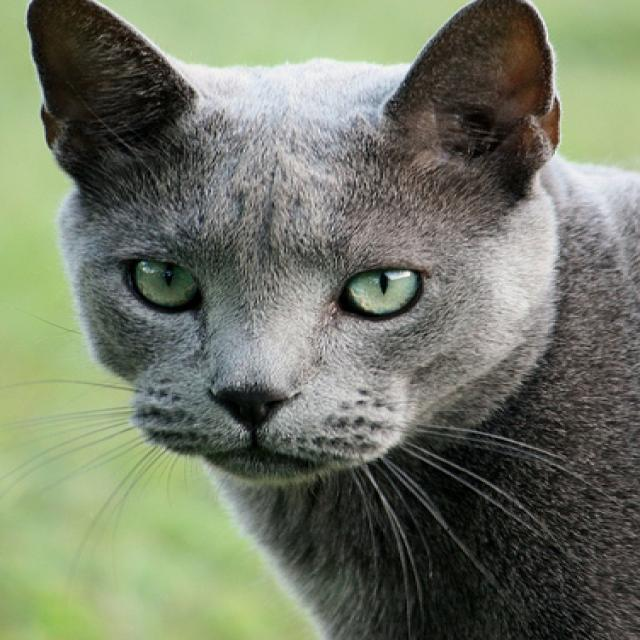Russian Blue: (17, 0, 640, 640)
